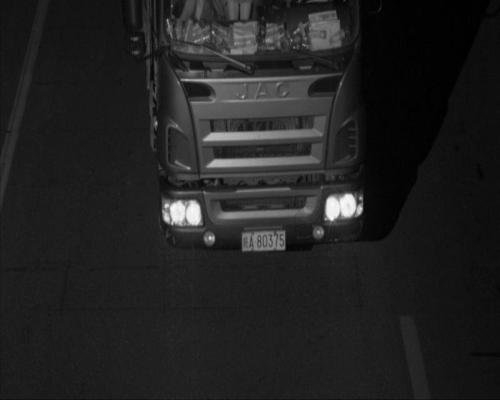Carplate: (238, 223, 289, 257)
